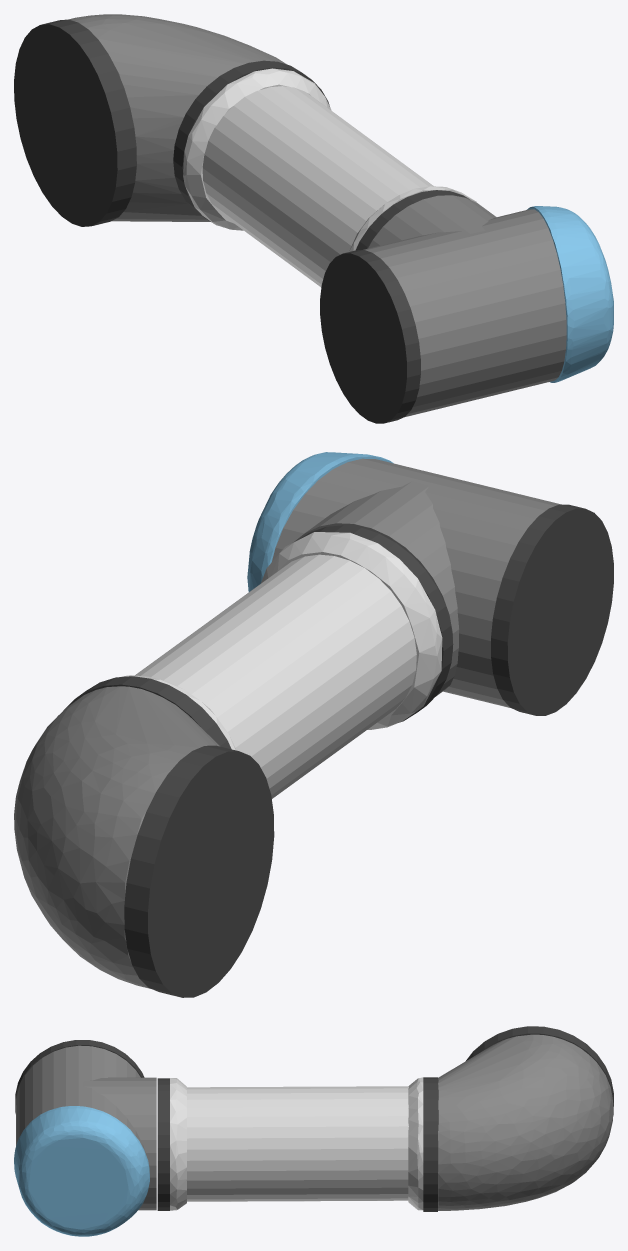
3 renders of one model, top to bottom at view 1: azimuth 30°, elevation 25°; view 2: azimuth 150°, elevation 25°; view 3: azimuth 270°, elevation 25°, orthographic. The views are drawn at different scales.
Parts seen in each view (by area): view 1: Node_0000014D8EC08320 (×9); view 2: Node_0000014D8EC08320 (×9); view 3: Node_0000014D8EC08320 (×9).
Boxes of the visible parts, x1,y1,x2,y2 form: Node_0000014D8EC08320 (×9): [14, 14, 613, 423]; Node_0000014D8EC08320 (×9): [14, 452, 613, 997]; Node_0000014D8EC08320 (×9): [14, 1026, 613, 1236].
Bounding box in the file's own units: 0.0968 × 0.0756 × 0.2836.
